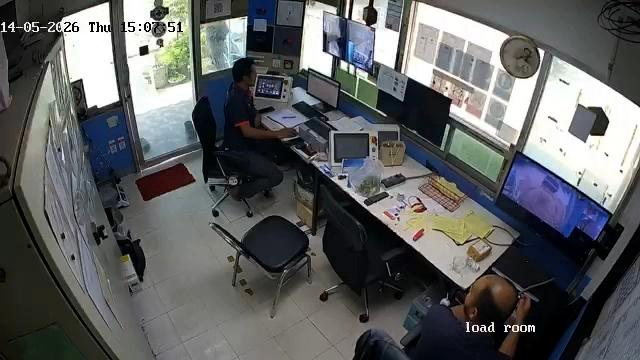Head: (467, 274, 514, 325), (231, 57, 258, 87)
People: (223, 55, 297, 192), (426, 270, 530, 360)
Phone: (258, 106, 276, 114)
